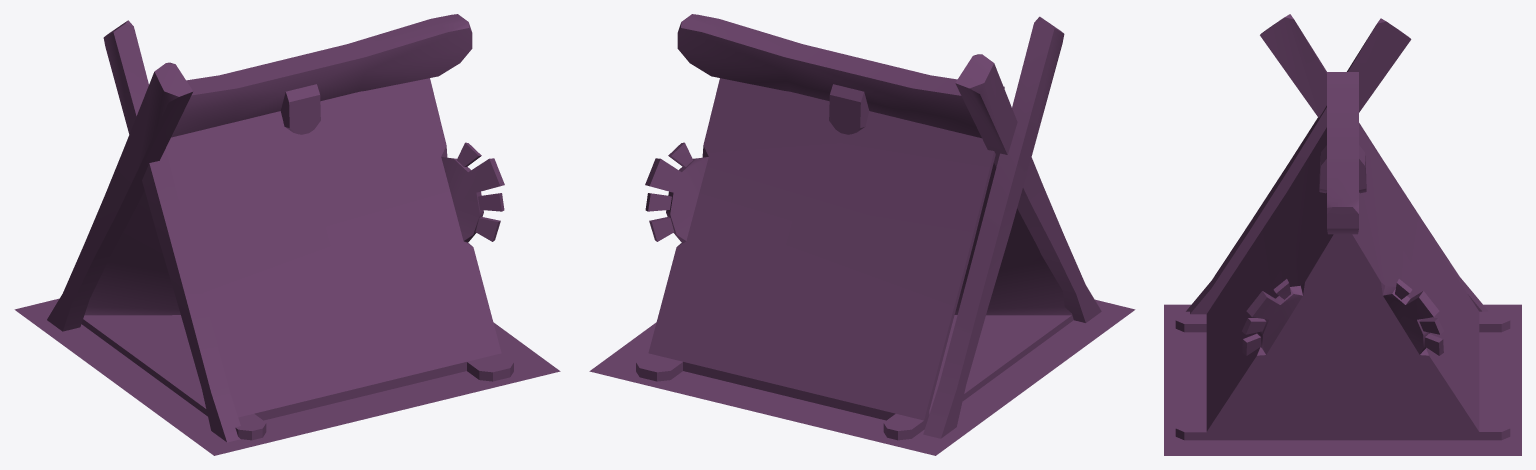
Rendered from BUD_Building_A.FBX.
3 views of the same model, side by side, from view 1: azimuth 30°, elevation 25°; view 2: azimuth 150°, elevation 25°; view 3: azimuth 270°, elevation 25° (orthographic). The views are drawn at different scales.
Parts seen in each view (by area): view 1: BUD_Building_A; view 2: BUD_Building_A; view 3: BUD_Building_A.
Boxes of the visible parts, bbox=[...] form: BUD_Building_A: bbox=[14, 14, 560, 455]; BUD_Building_A: bbox=[589, 14, 1135, 455]; BUD_Building_A: bbox=[1164, 14, 1521, 455].
Bounding box in the file's own units: 12.09 × 11.12 × 12.
